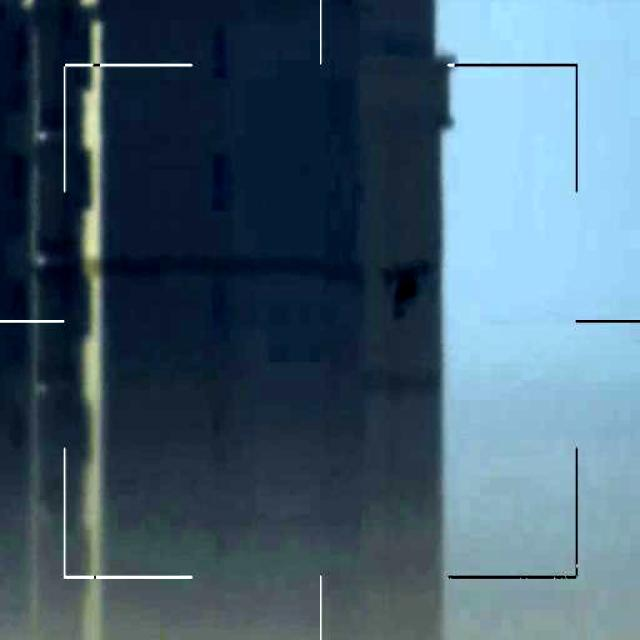bird: (394, 250, 454, 322)
